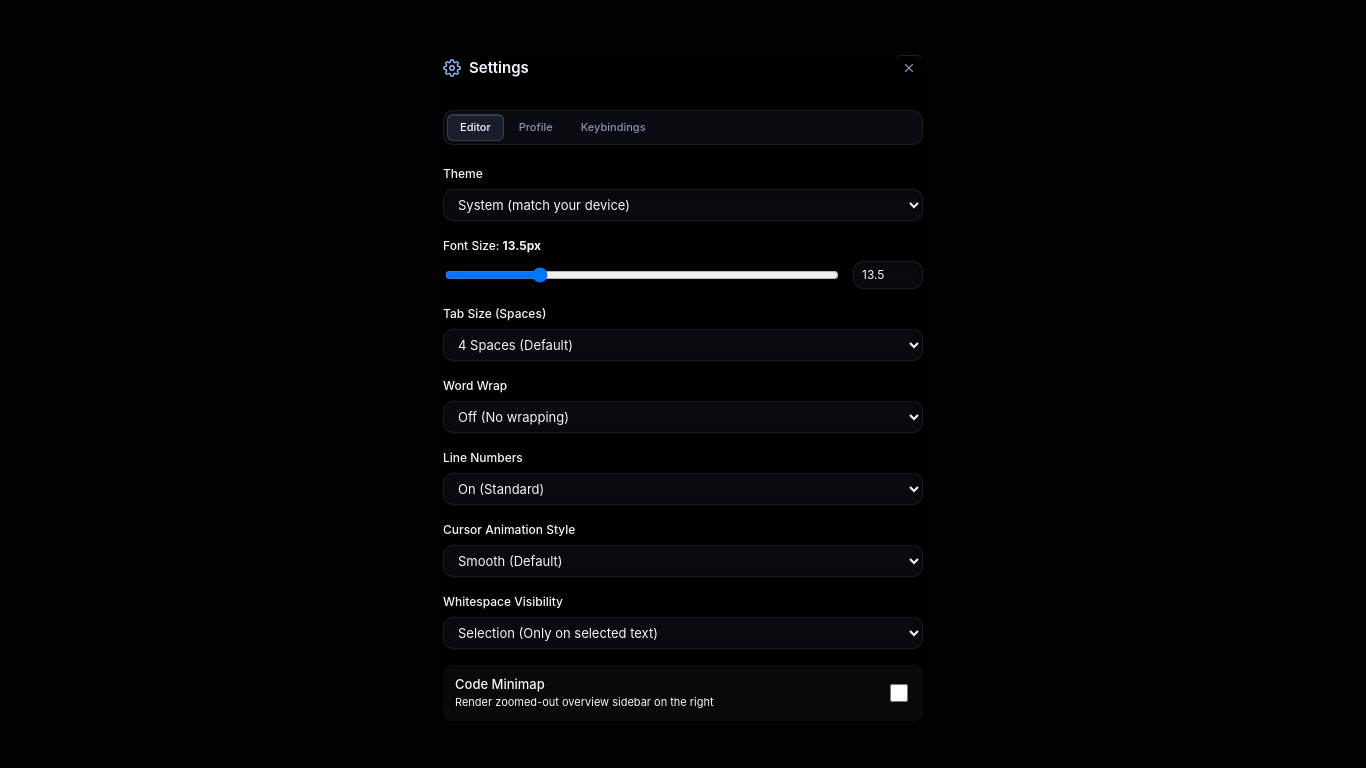
Test case: M62-4 — SettingsModal Profile tab › 9.-11. enforces maxLength 48 / 24 / 280
Step 1. Click the tab "Profile" → (536, 128), box [506,114,566,141]
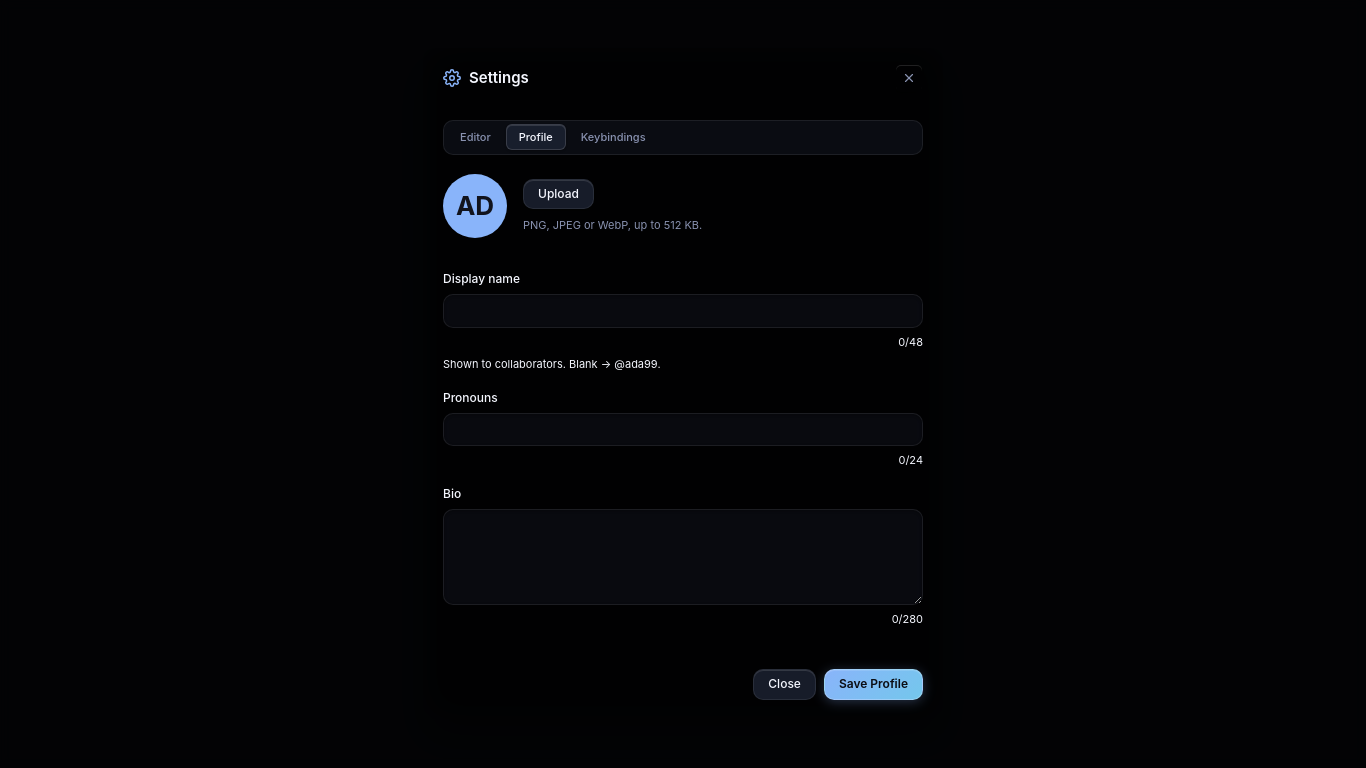
Check: the field labelled "Display name" is shown, box [443,294,923,328]
